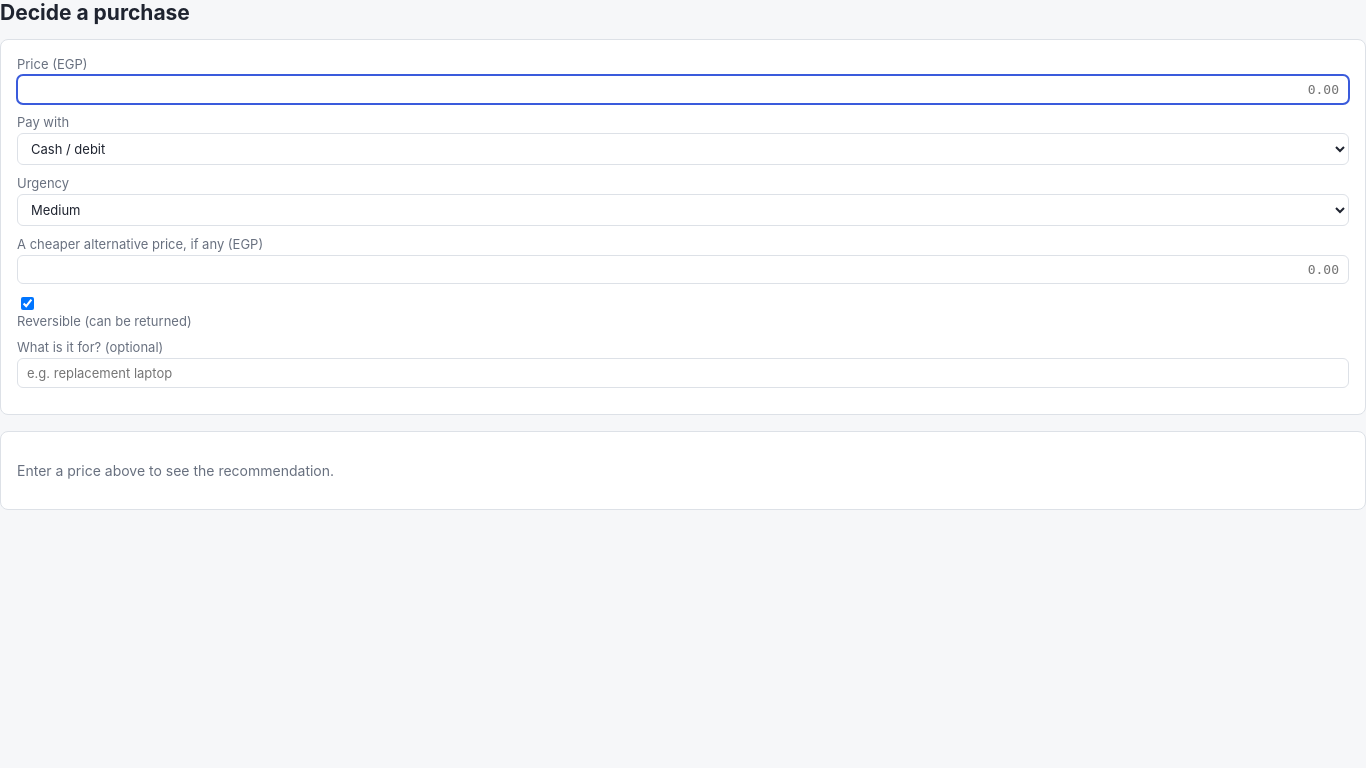
DecideView › approves an easily affordable cash purchase
Type "50" into the field named "purchase price" at (683, 90), box [17,75,1349,104]
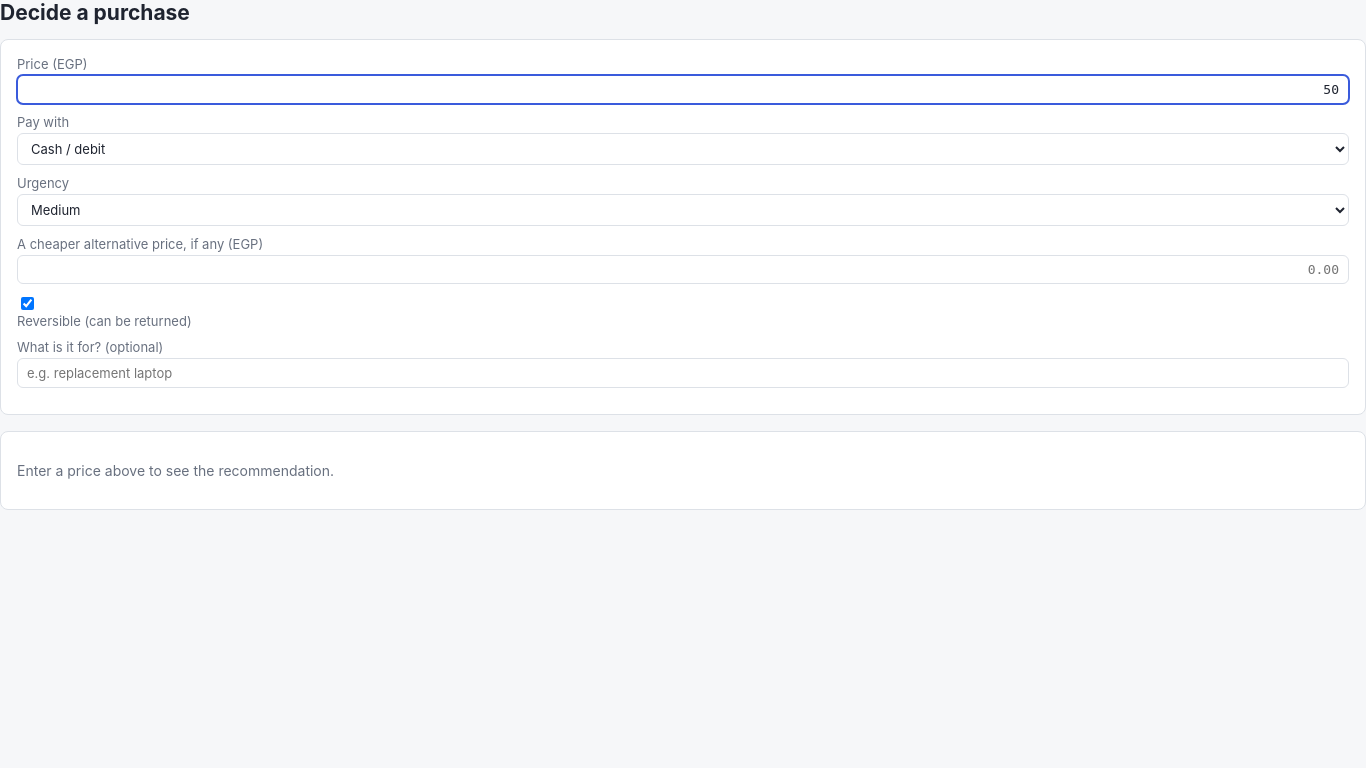
Leave the field named "purchase price", box [17,75,1349,104]
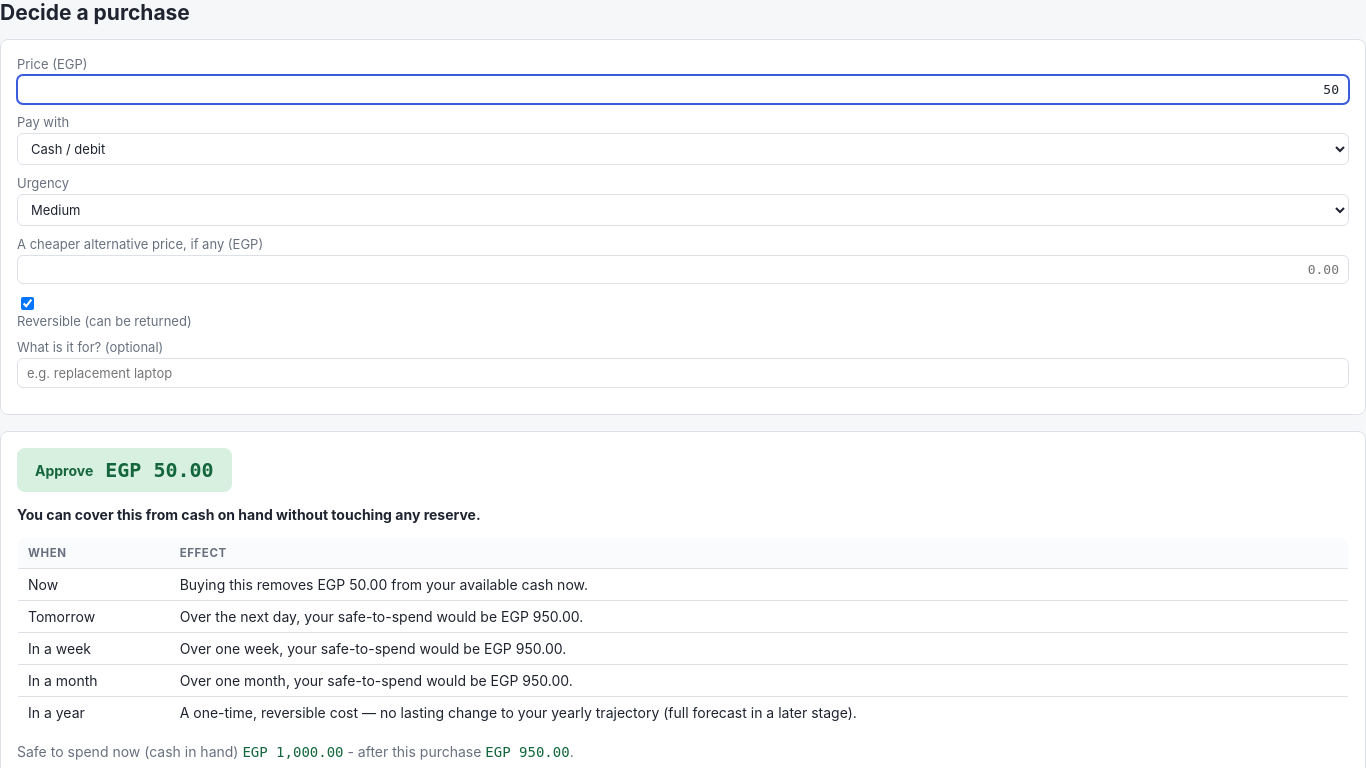
Check: the message named "recommendation" shows "Approve", box [35,462,93,478]
Check: the table named "time-horizon impact" is shown, box [17,537,1349,729]
